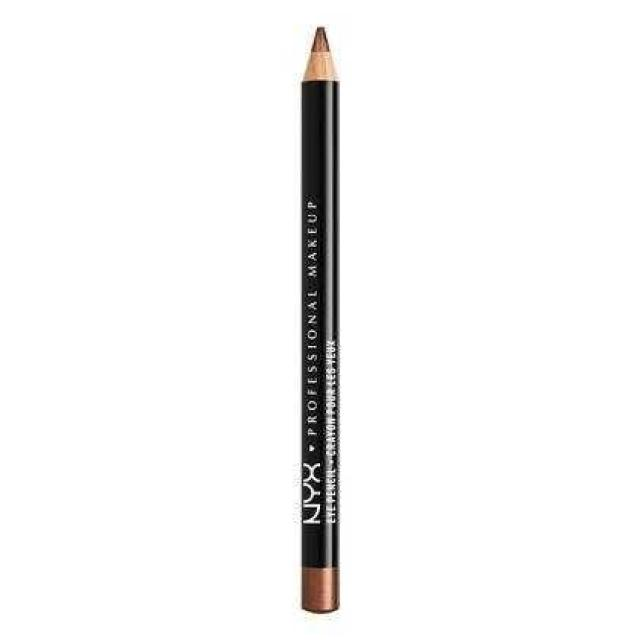pencil: (282, 15, 356, 621)
